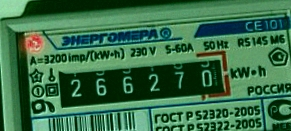0: (200, 67, 213, 89)
2: (68, 76, 84, 98), (147, 71, 161, 93)
6: (94, 76, 109, 97), (120, 74, 135, 94)
7: (172, 69, 186, 91)
screen: (48, 46, 239, 118)
